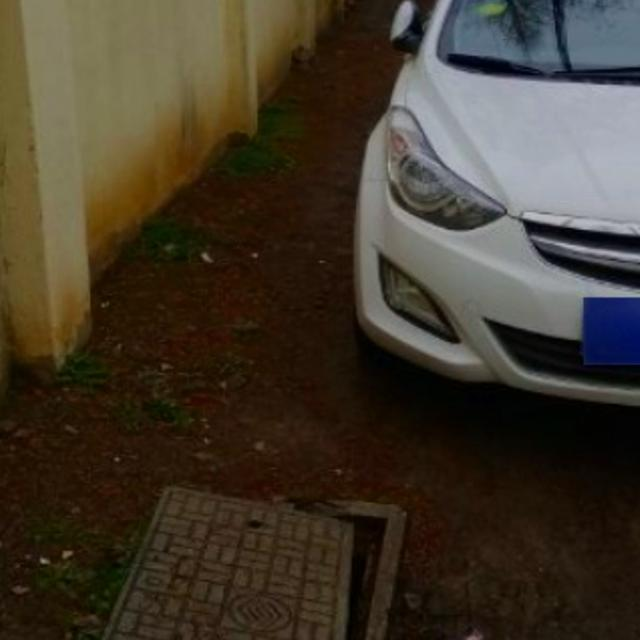uncovered: (64, 484, 408, 640)
